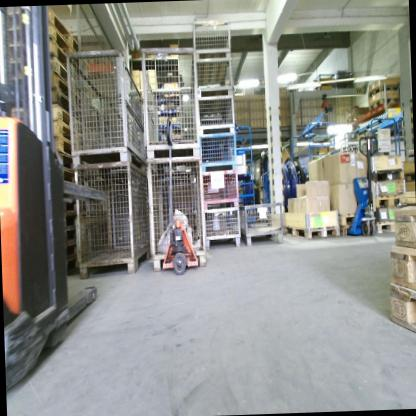pallet: (283, 220, 343, 245), (388, 282, 416, 335), (47, 7, 78, 54), (390, 243, 416, 292), (394, 210, 416, 249), (49, 68, 72, 99), (373, 194, 408, 213), (367, 94, 403, 112), (50, 55, 70, 84), (371, 168, 404, 185), (368, 84, 404, 99), (339, 224, 373, 239), (335, 213, 372, 226), (52, 88, 72, 111), (50, 26, 67, 53), (50, 43, 67, 70), (374, 222, 399, 236), (51, 104, 69, 123), (53, 123, 71, 142), (53, 137, 72, 153), (66, 257, 78, 275), (64, 197, 75, 214), (64, 214, 75, 227), (66, 228, 76, 241), (67, 244, 77, 256)
pallet_truck: (0, 5, 102, 399), (156, 118, 202, 279), (346, 130, 384, 240)
stillage: (67, 47, 149, 178), (72, 164, 151, 277), (139, 44, 201, 159), (146, 155, 208, 269), (239, 202, 284, 247), (196, 94, 238, 137), (192, 16, 233, 59), (203, 209, 244, 251), (193, 58, 235, 98), (202, 169, 240, 211), (197, 135, 239, 171)
